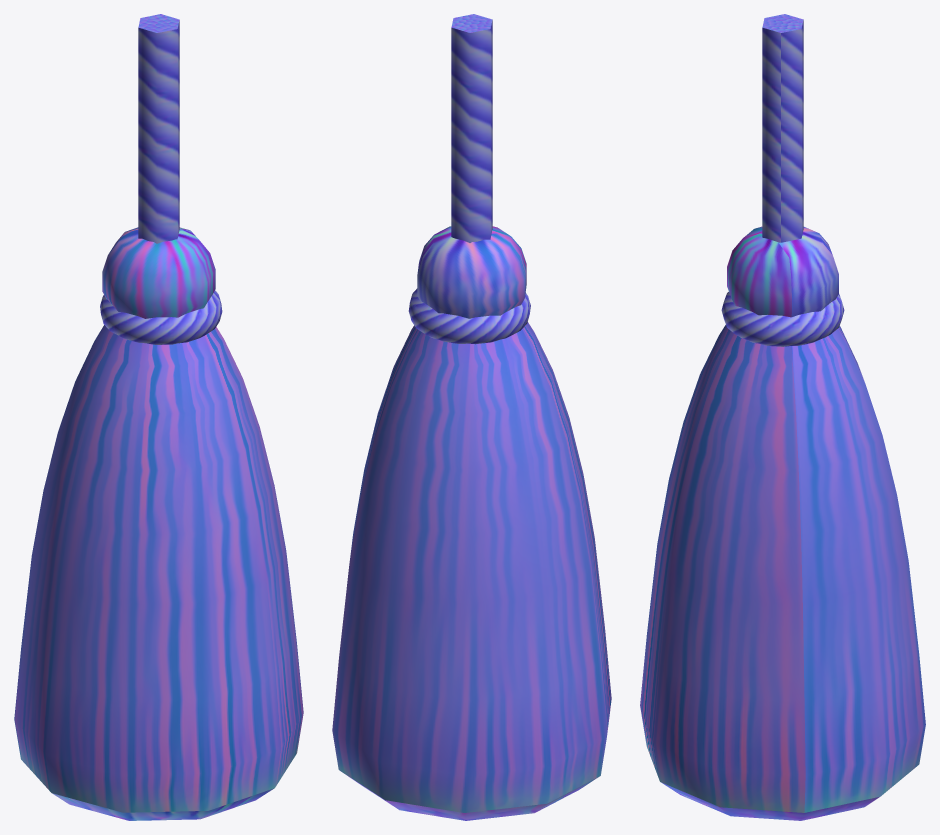
File: SM_EastLands_Tassel_01.fbx
The picture shows the model from 3 angles, left to right: view 1: azimuth 30°, elevation 25°; view 2: azimuth 150°, elevation 25°; view 3: azimuth 270°, elevation 25°; orthographic projection.
Parts seen in each view (by area): view 1: SM_EastLands_Tassel_01_LOD0; view 2: SM_EastLands_Tassel_01_LOD0; view 3: SM_EastLands_Tassel_01_LOD0.
Boxes of the visible parts, x1,y1,x2,y2 form: SM_EastLands_Tassel_01_LOD0: (14,14,303,820); SM_EastLands_Tassel_01_LOD0: (332,14,611,820); SM_EastLands_Tassel_01_LOD0: (640,14,925,820).
Size of the model in its own units: 28.23 by 82.4 by 28.23.
